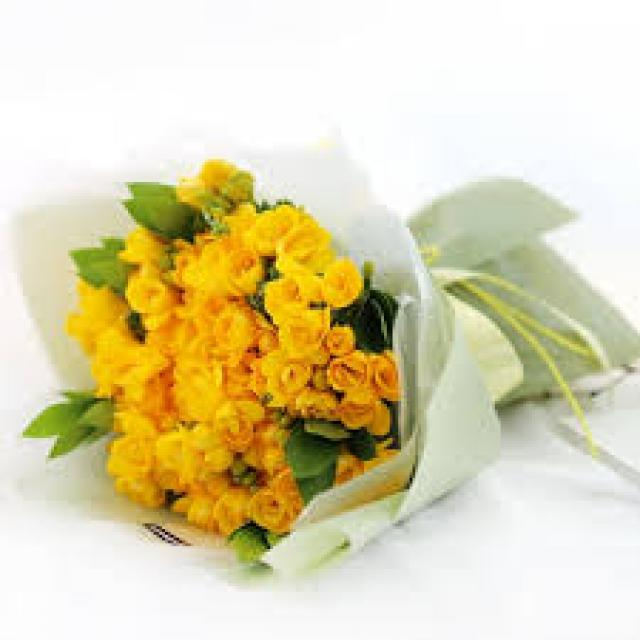freesia: (320, 340, 405, 434), (273, 271, 338, 356), (124, 269, 210, 329), (204, 234, 263, 297), (262, 348, 314, 398)
